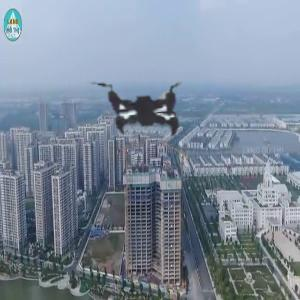drone: (53, 13, 238, 198)
